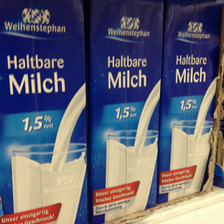milk: (1, 1, 92, 224), (91, 1, 161, 223), (158, 4, 223, 200)
